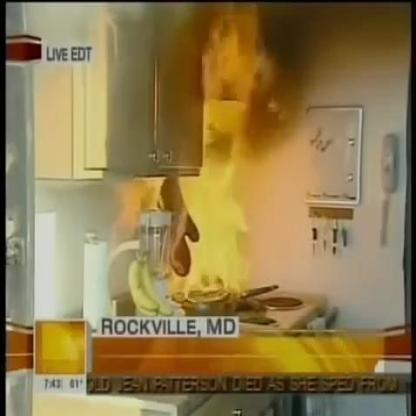fire: (156, 11, 278, 303)
